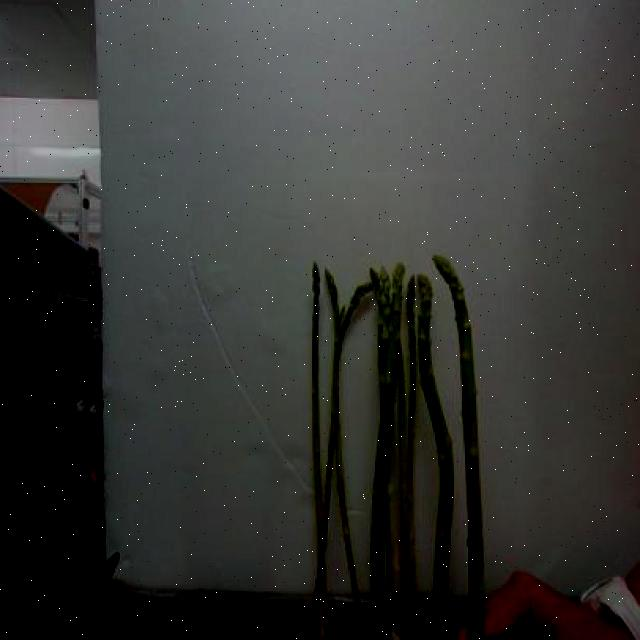aspargus: (434, 256, 483, 639), (415, 279, 457, 632), (308, 264, 329, 609)
